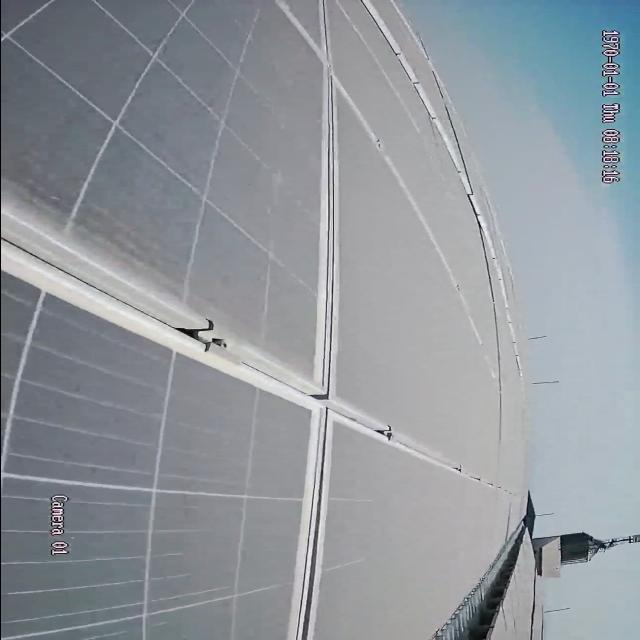interior panel: (10, 83, 482, 640)
outher panel: (434, 523, 530, 637)
